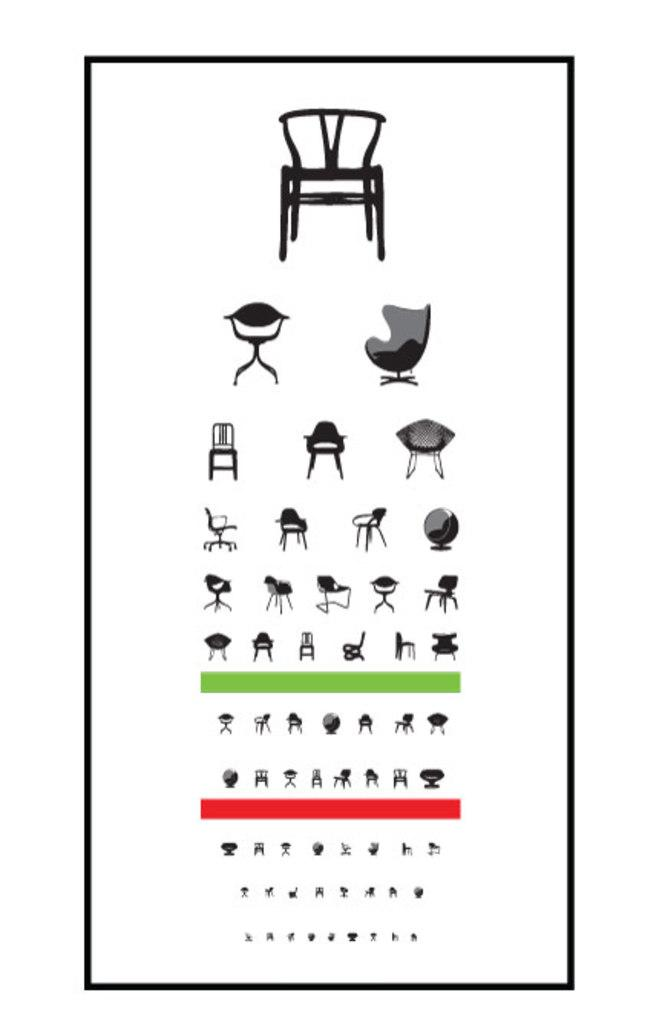Chair: (270, 90, 395, 248), (363, 307, 429, 388), (222, 305, 288, 385), (397, 418, 454, 477), (303, 417, 348, 477), (204, 418, 241, 483), (198, 504, 241, 550), (351, 504, 385, 555), (423, 503, 457, 550), (276, 504, 306, 549), (317, 576, 348, 616), (267, 569, 294, 613), (421, 576, 457, 609), (369, 575, 397, 613), (204, 573, 228, 613), (339, 629, 366, 661), (204, 630, 233, 656), (428, 633, 457, 659), (248, 633, 274, 661), (392, 624, 414, 656), (428, 710, 449, 739), (421, 765, 446, 788), (297, 630, 316, 659), (256, 708, 273, 736), (285, 708, 302, 734), (322, 710, 339, 734), (394, 713, 412, 731), (366, 770, 383, 788), (394, 765, 406, 788), (285, 766, 297, 788), (251, 770, 267, 786), (334, 770, 348, 788), (357, 714, 372, 730), (218, 716, 233, 730), (224, 766, 233, 786), (313, 763, 319, 785)
